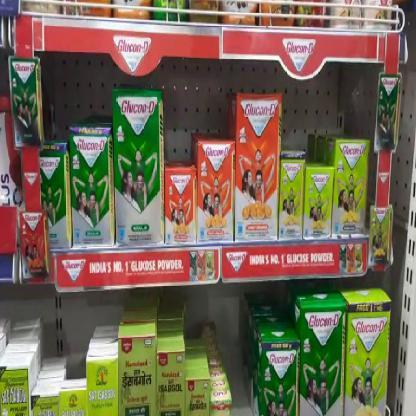Glucon D Nimbu Pani 1-KG: (346, 299, 387, 415), (335, 143, 367, 235)
Glucon D Regular 1-KG: (115, 100, 159, 246), (72, 132, 113, 250), (299, 306, 342, 415)
Glucon D Tangy orange 1-KG: (236, 96, 280, 240), (197, 139, 233, 240)
